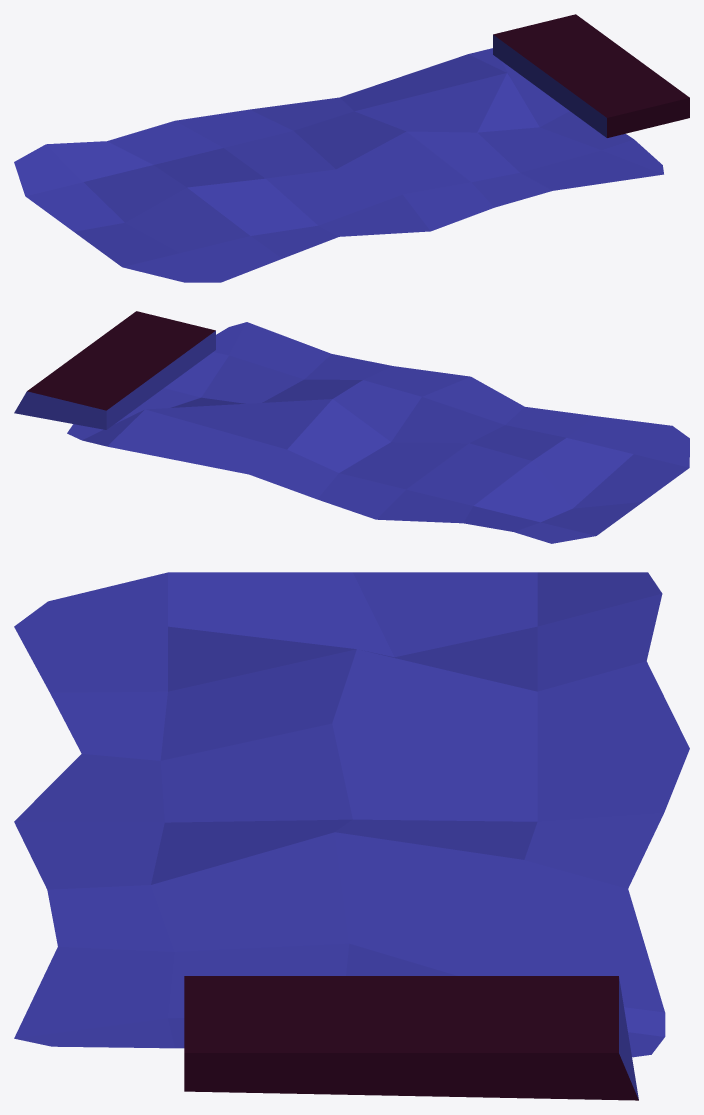
The model's file is futon_new.fbx.
3 renders of one model, top to bottom at view 1: azimuth 30°, elevation 25°; view 2: azimuth 150°, elevation 25°; view 3: azimuth 270°, elevation 25°, orthographic. The views are drawn at different scales.
Parts seen in each view (by area): view 1: futon, pirrow.001; view 2: futon, pirrow.001; view 3: futon, pirrow.001.
Boxes of the visible parts, bbox=[...] form: futon: bbox=[14, 35, 663, 282]; pirrow.001: bbox=[493, 14, 689, 137]; futon: bbox=[14, 322, 689, 543]; pirrow.001: bbox=[27, 311, 215, 410]; futon: bbox=[14, 572, 689, 1099]; pirrow.001: bbox=[184, 976, 638, 1100].
Bounding box in the file's own units: 518 × 34.99 × 274.
